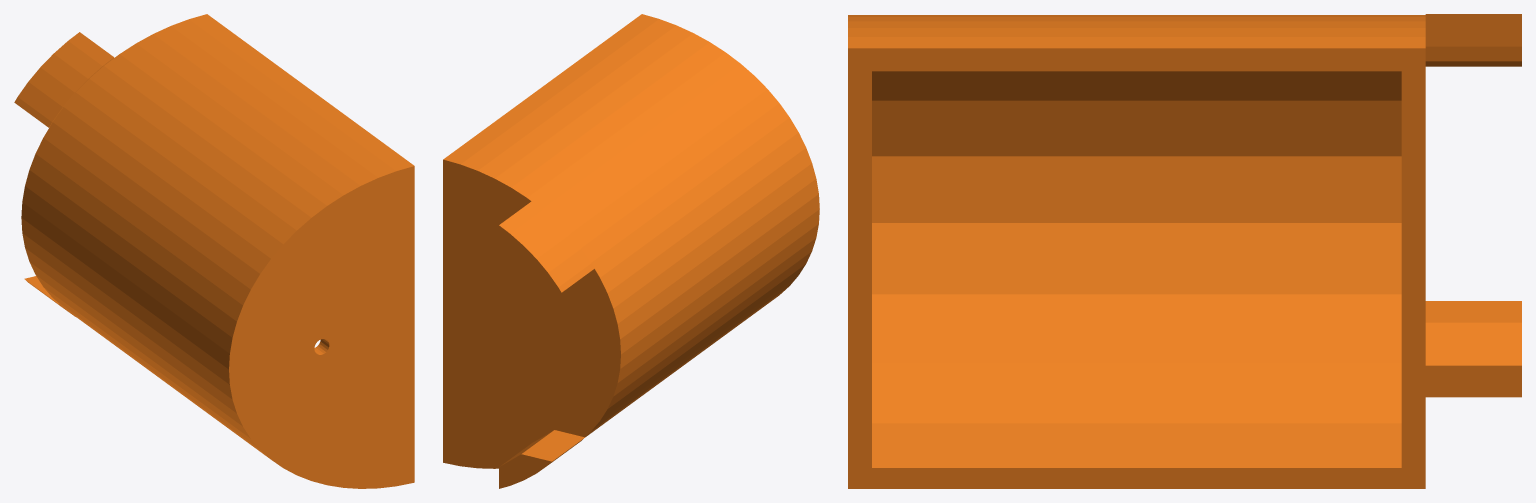
File: tinker.obj
3 views of the same model, side by side, from view 1: azimuth 30°, elevation 25°; view 2: azimuth 150°, elevation 25°; view 3: azimuth 270°, elevation 25° (orthographic). The views are drawn at different scales.
Visible parts, largest first — view 1: obj_0; view 2: obj_0; view 3: obj_0.
Boxes of the visible parts, <box> form: obj_0: <box>14,14,414,488</box>; obj_0: <box>443,14,819,488</box>; obj_0: <box>848,14,1521,488</box>.
Size of the model in its own units: 62 by 101 by 140.
